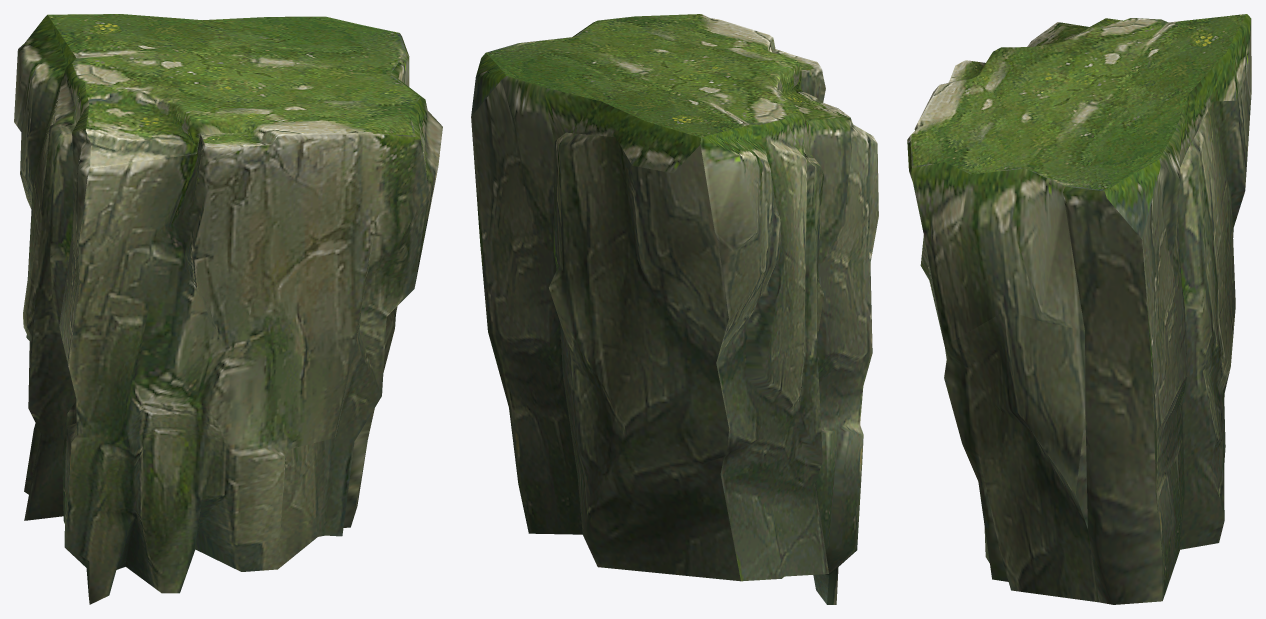
File: 4004_Item_shitou_13.FBX
The picture shows the model from 3 angles, left to right: view 1: azimuth 30°, elevation 25°; view 2: azimuth 150°, elevation 25°; view 3: azimuth 270°, elevation 25°; orthographic projection.
Parts seen in each view (by area): view 1: 4004_Item_shitou_13; view 2: 4004_Item_shitou_13; view 3: 4004_Item_shitou_13.
Boxes of the visible parts, box(x1,y1,x2,y2) form: 4004_Item_shitou_13: box(14, 14, 442, 604); 4004_Item_shitou_13: box(471, 14, 878, 604); 4004_Item_shitou_13: box(907, 14, 1251, 604).
Size of the model in its own units: 688 by 938 by 558.
